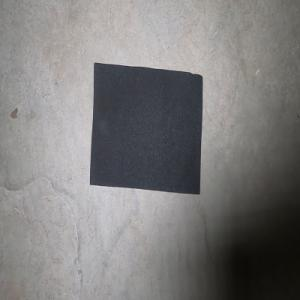PaintChip: (89, 62, 202, 194)
